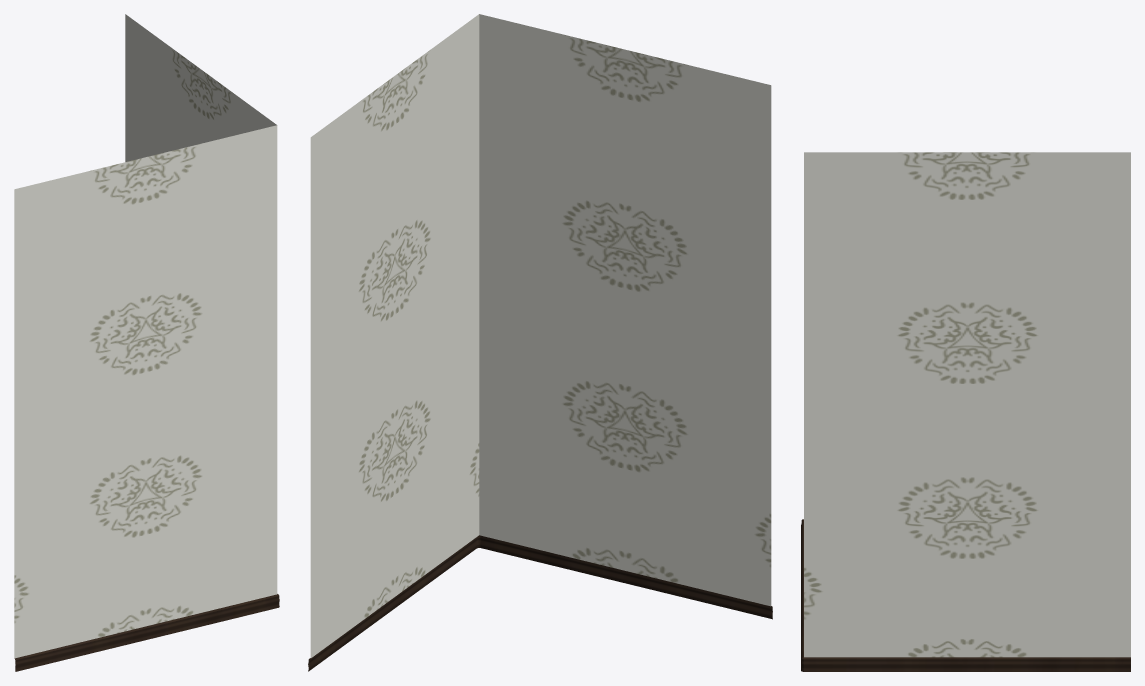
Rendered from WallsCorner.fbx.
3 views of the same model, side by side, from view 1: azimuth 30°, elevation 25°; view 2: azimuth 150°, elevation 25°; view 3: azimuth 270°, elevation 25° (orthographic). The views are drawn at different scales.
Visible parts, largest first — view 1: Wall3; view 2: Wall3; view 3: Wall3.
Boxes of the visible parts, x1=… form: Wall3: x1=14, y1=14, x2=279, y2=671; Wall3: x1=308, y1=14, x2=772, y2=671; Wall3: x1=801, y1=152, x2=1130, y2=671.
Size of the model in its own units: 2.02 by 3.5 by 2.02.
